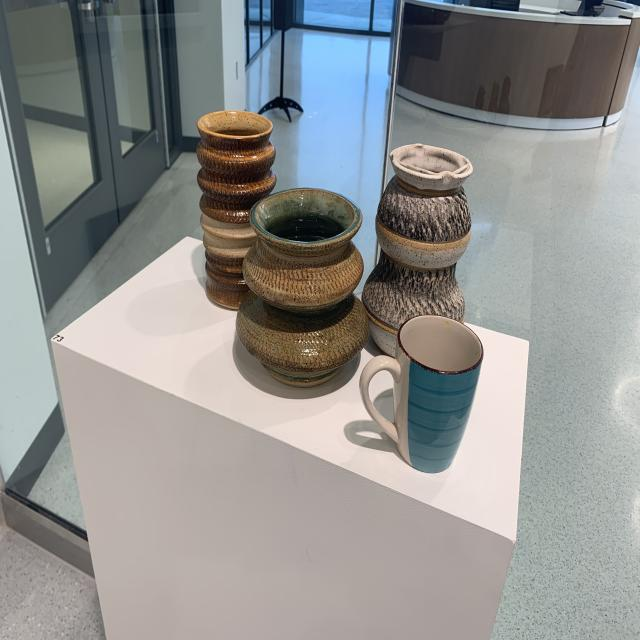Cup: (361, 315, 486, 475)
